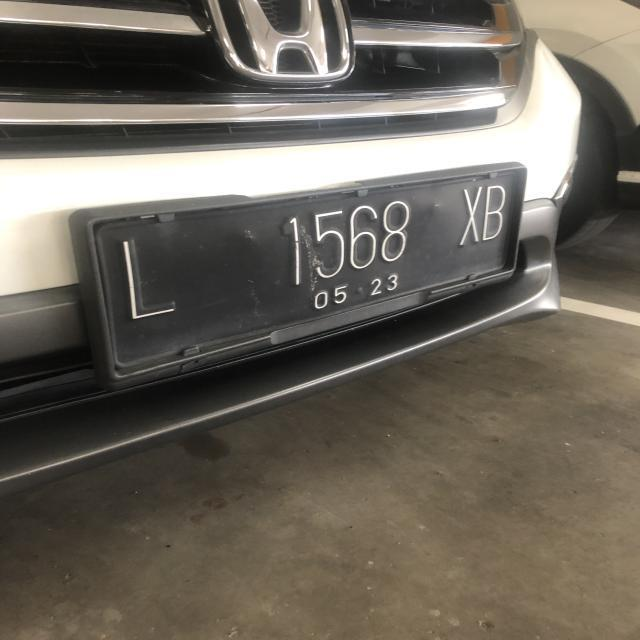1: (280, 213, 308, 287)
5: (312, 210, 348, 278)
6: (349, 205, 381, 269)
8: (379, 196, 414, 264)
B: (484, 183, 506, 245)
L: (121, 236, 181, 322)
X: (456, 182, 484, 250)
